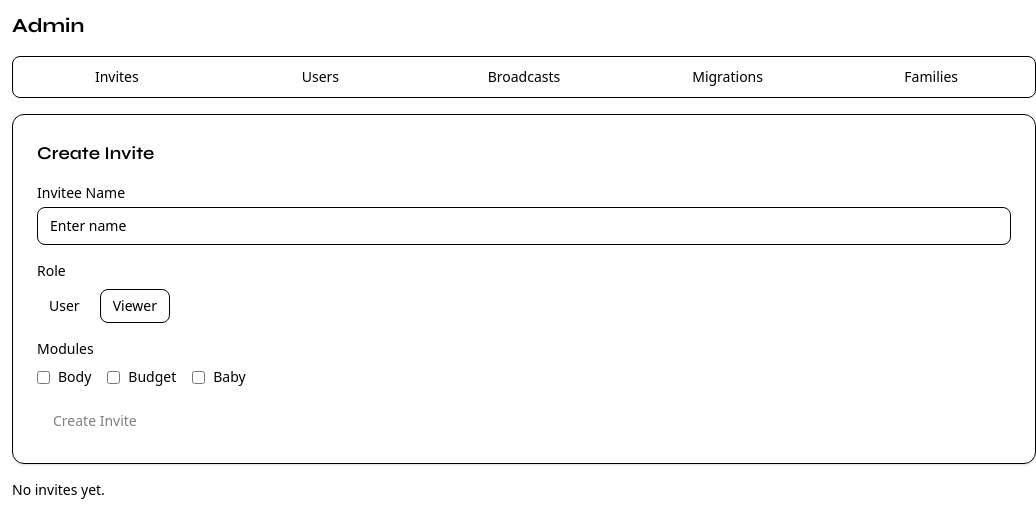
AdminPanel › switches to Users tab on click
The image size is (1036, 516).
Click the button "Users" at (320, 77), box left=221, top=61, right=420, bottom=93
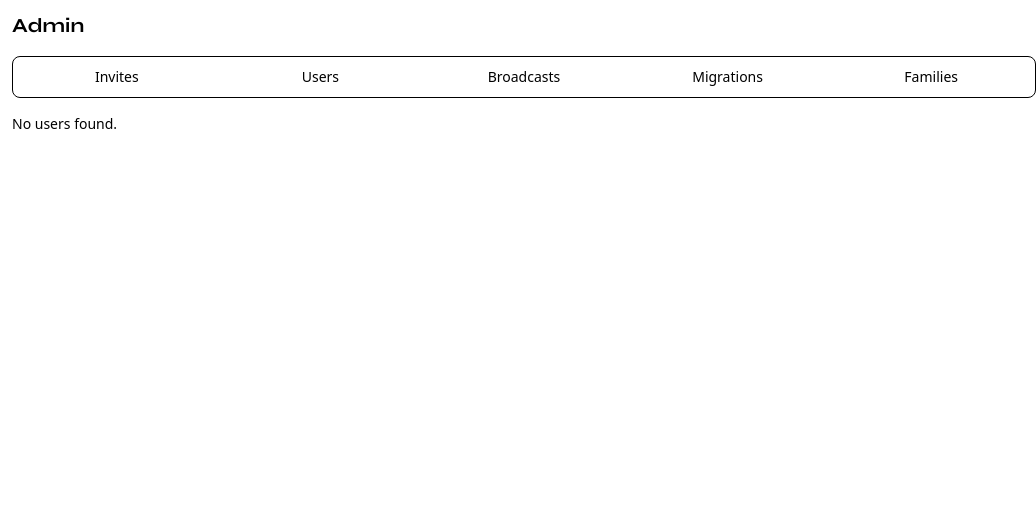
Expected: the text "No users found." is shown, left=12, top=114, right=117, bottom=133
